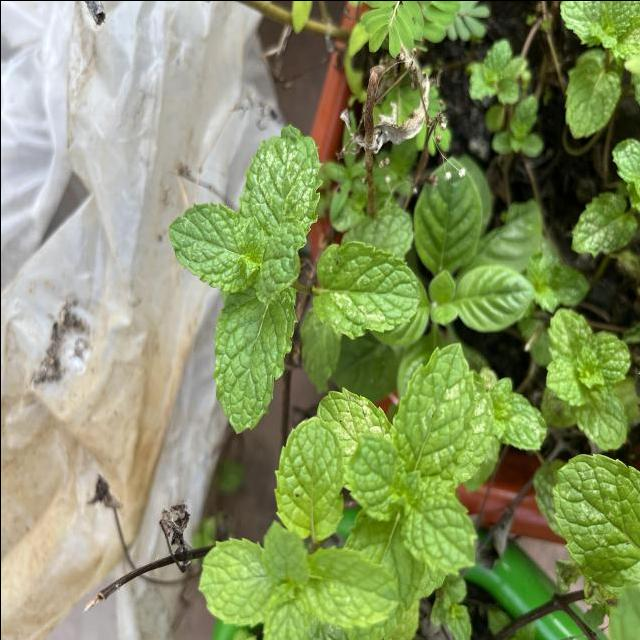Mentha spicata: (211, 281, 298, 434), (390, 338, 476, 478), (311, 240, 420, 340), (236, 120, 324, 238), (272, 411, 344, 542), (166, 200, 249, 294)
